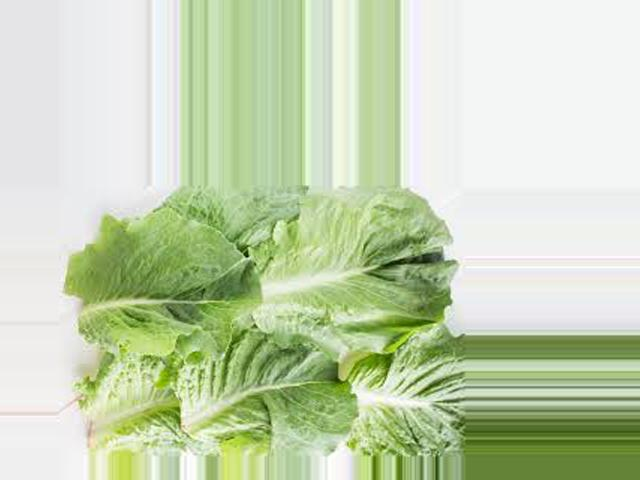lettuce: (73, 193, 455, 458)
